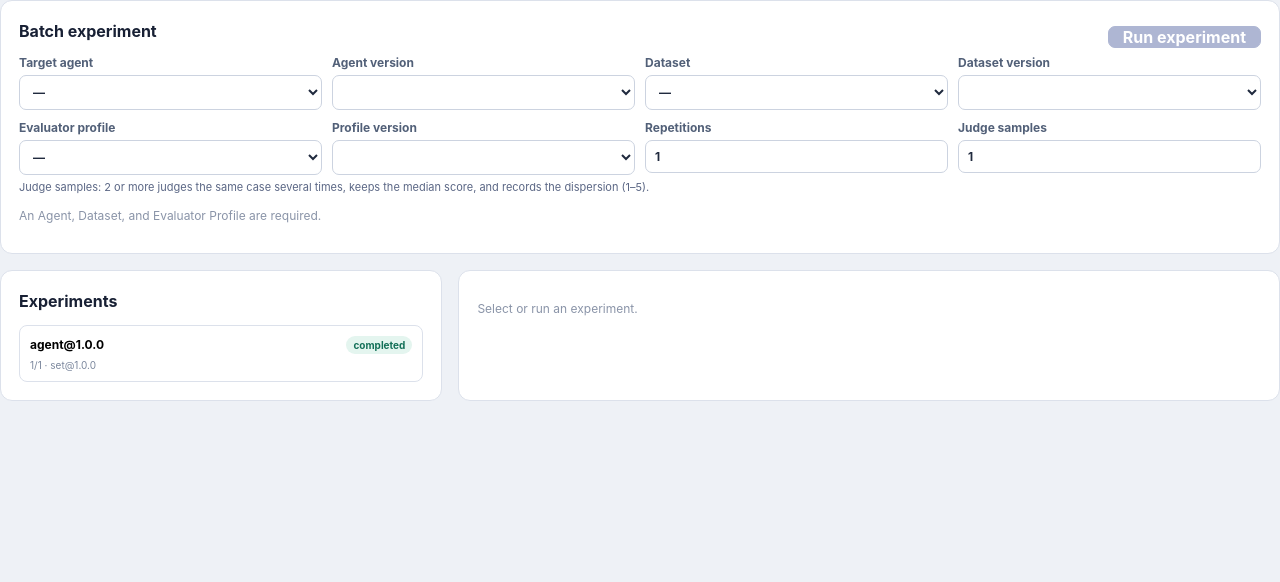
Scenario: ExperimentsTab のトレース表示 › トレースの取得失敗はアラートで出す
The width and height of the screenshot is (1280, 582).
What coordinates should you click on to do the following:
click the button "agent@1.0.0 completed 1/1 · set@1.0.0"
I would click on:
 (47, 344)
Its box is x1=19 y1=324 x2=423 y2=382.
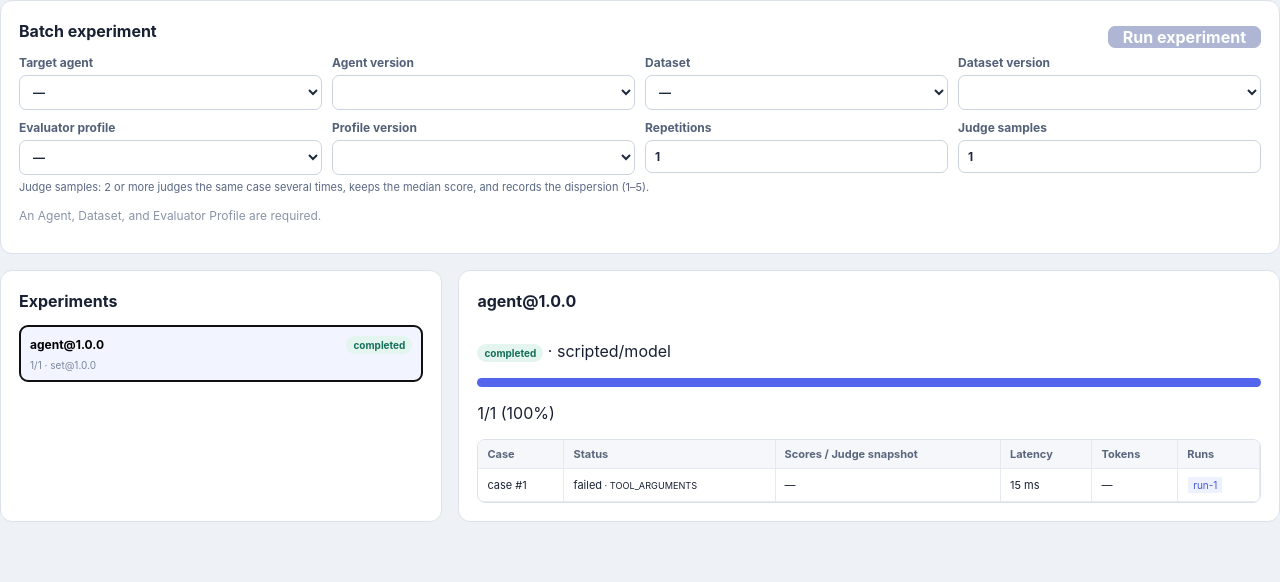
What coordinates should you click on to do the following:
click the button "run-1"
I would click on:
 (1205, 484)
Its box is x1=1188 y1=476 x2=1222 y2=492.
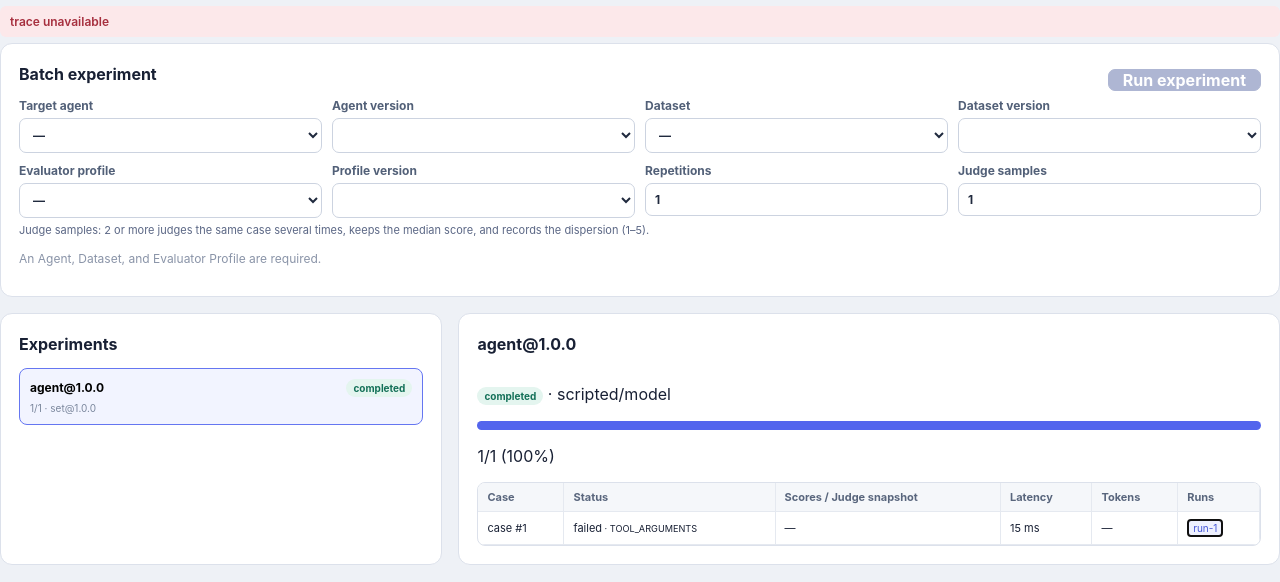
Check: the message reads "trace unavailable", box x1=10 y1=14 x2=109 y2=29
